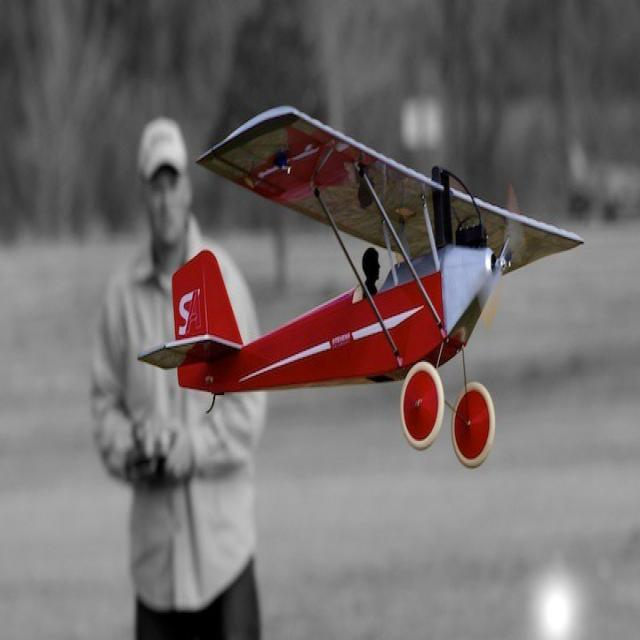iha: (134, 102, 587, 472)
